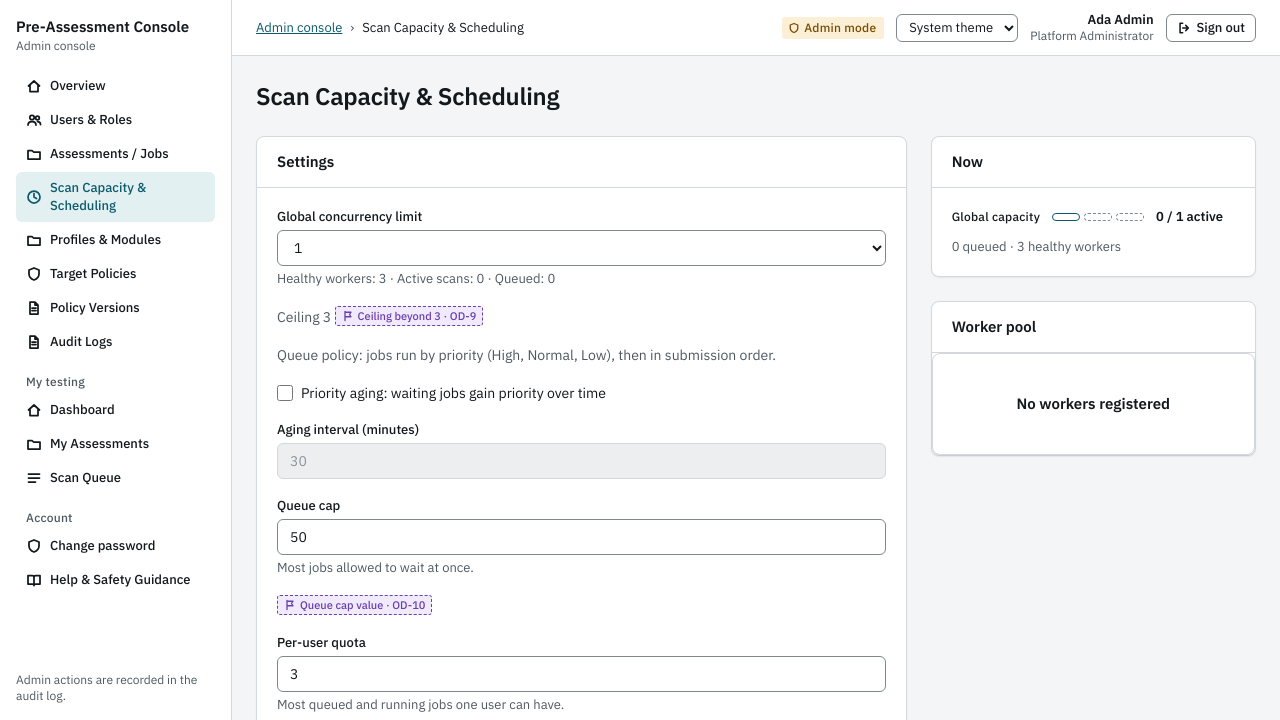
Test: capacity: after a successful save the form is seeded from the PUT response (Save disabled again)
Step 1. Select "2" in the dropdown labelled "Global concurrency limit" → point(581, 248), box top-left (277, 230), bottom-right (886, 266)
(page scrolled)
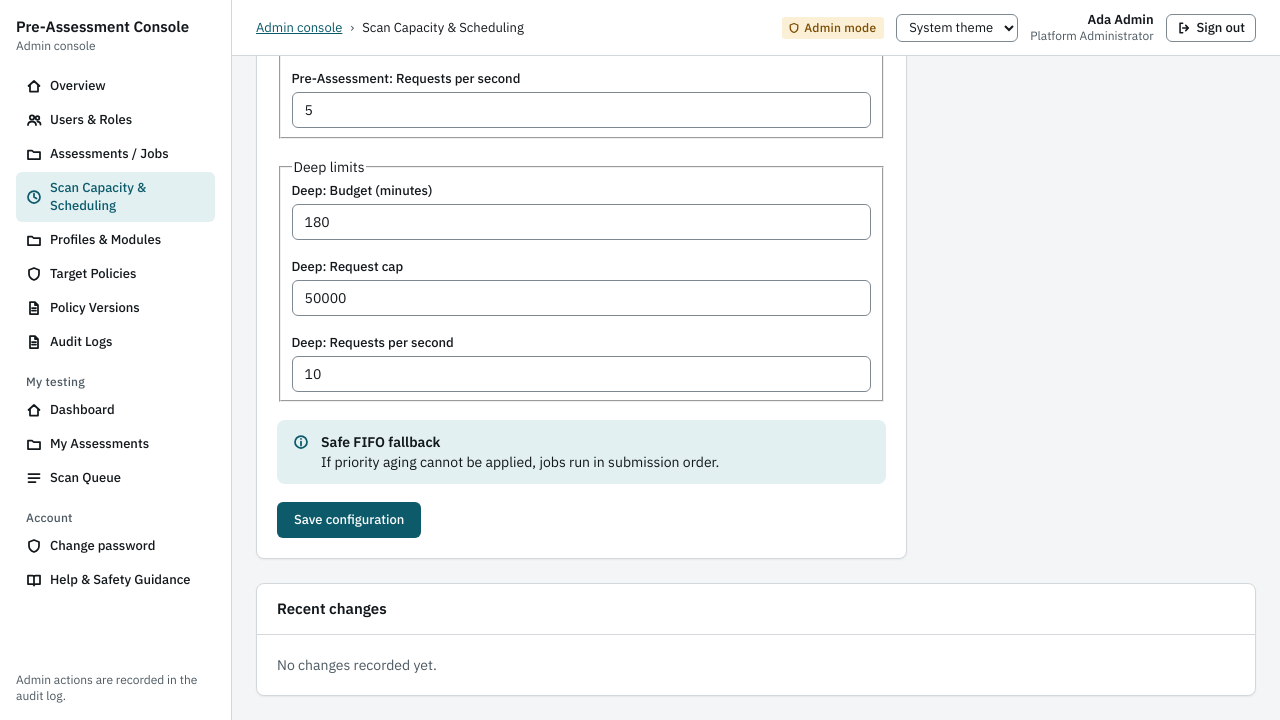
Step 2. Click the button "Save configuration" → point(349, 520), box top-left (277, 502), bottom-right (421, 538)
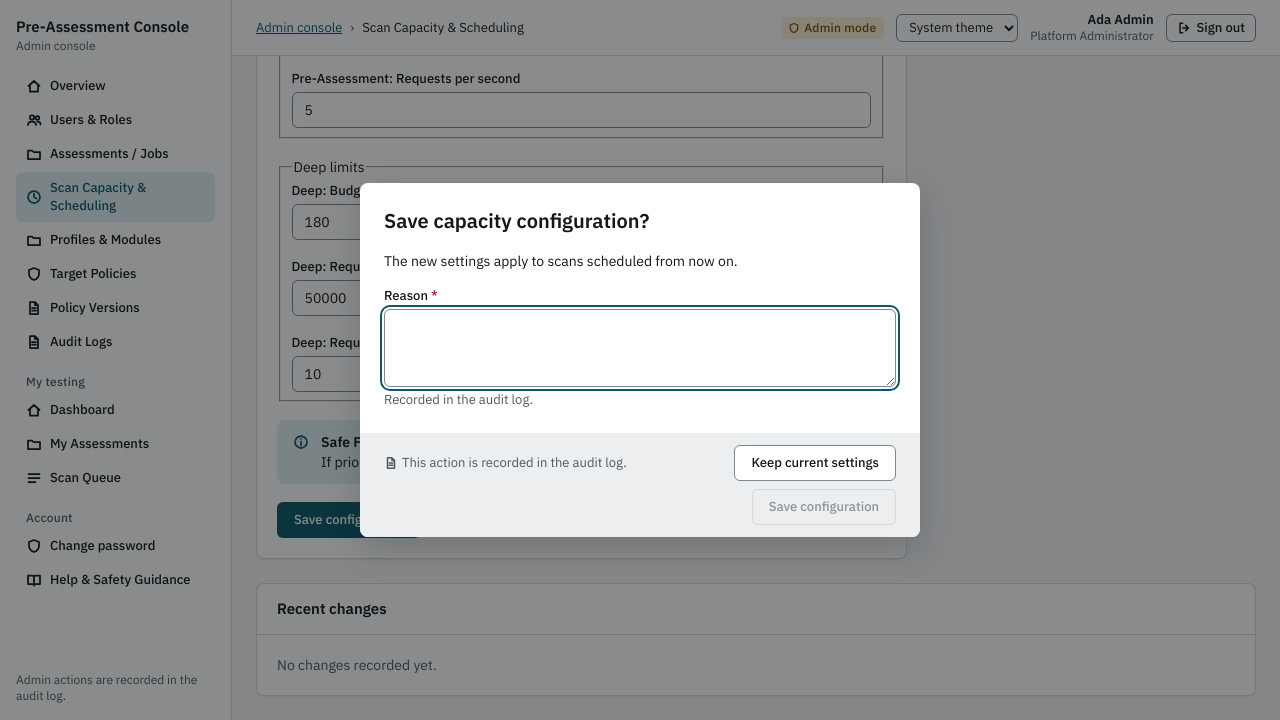
Step 3. Type "More" into the text box labelled "Reason *" → point(640, 348), box top-left (384, 309), bottom-right (896, 387)
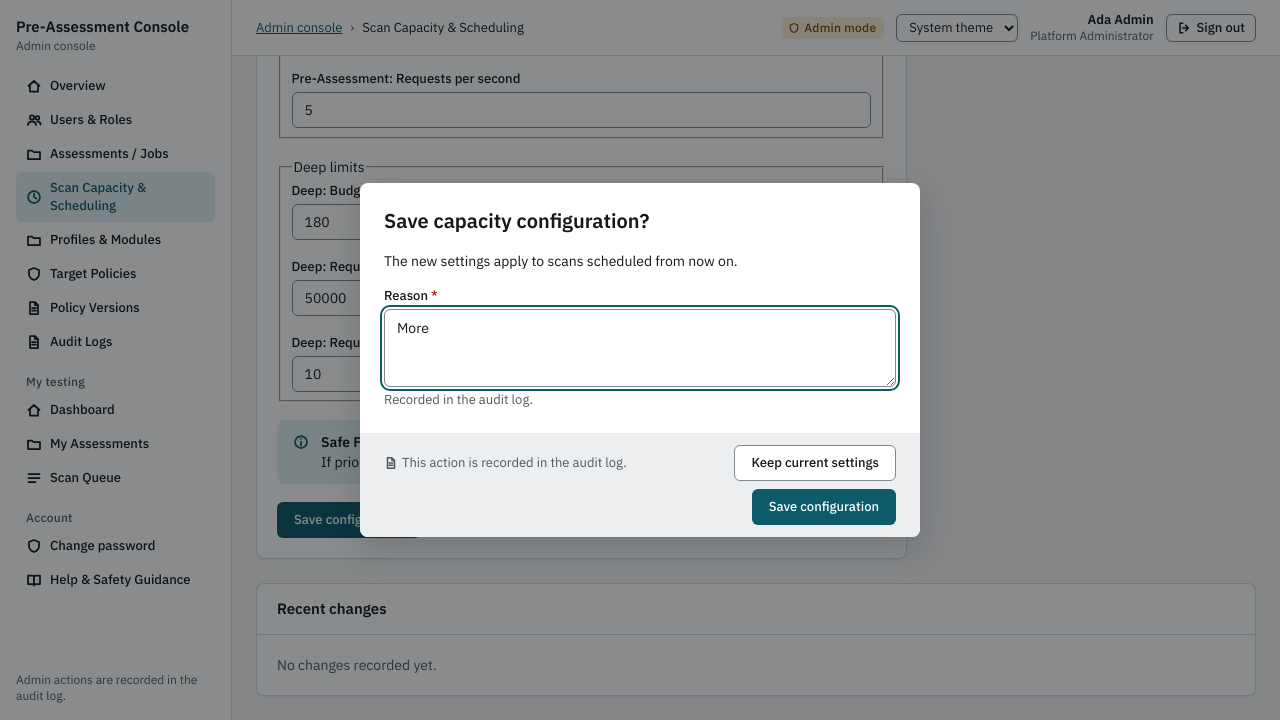
Step 4. Click the button "Save configuration" → point(824, 507), box top-left (752, 489), bottom-right (896, 525)
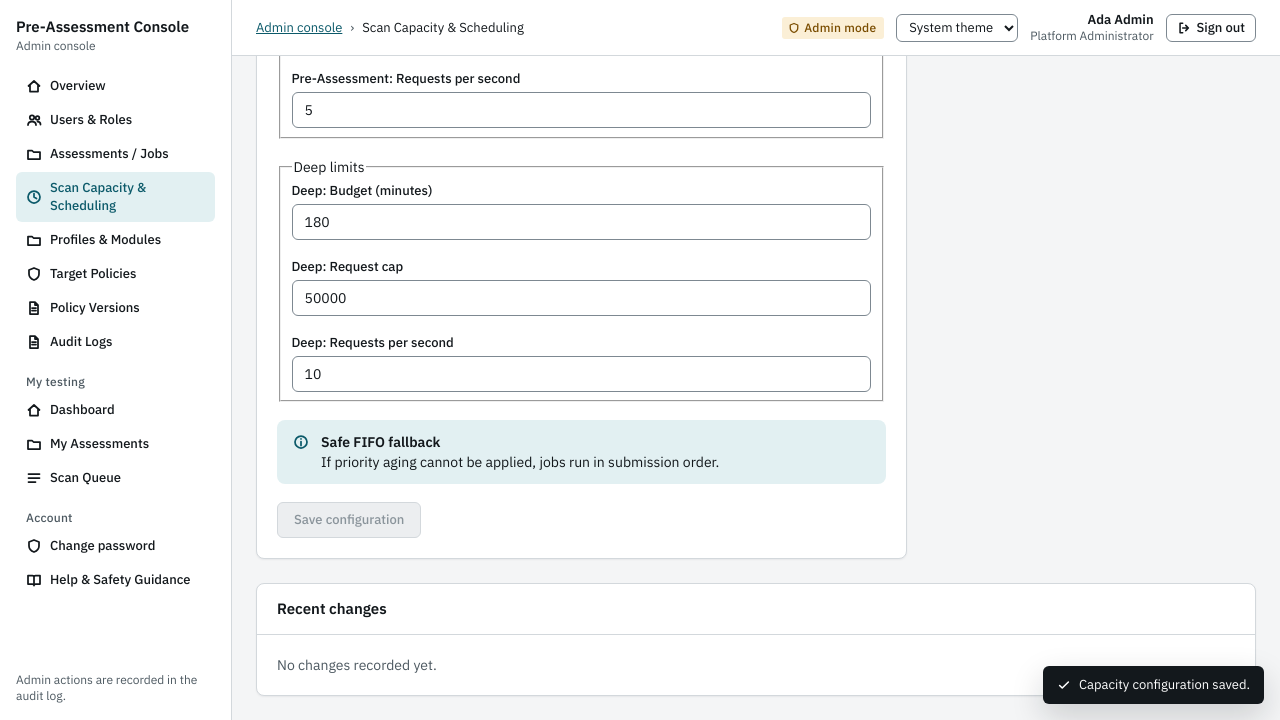
Expected: the dialog is gone
Expected: the button "Save configuration" is disabled, top-left (277, 502), bottom-right (421, 538)
